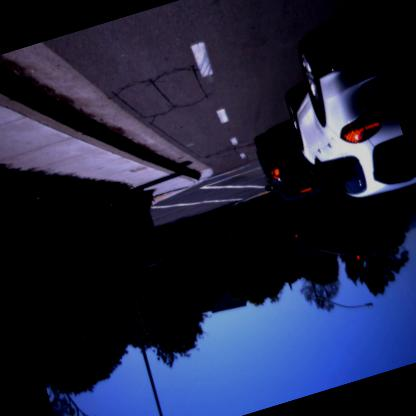trafficlight: (288, 222, 302, 239), (352, 246, 364, 265), (387, 235, 398, 254)
